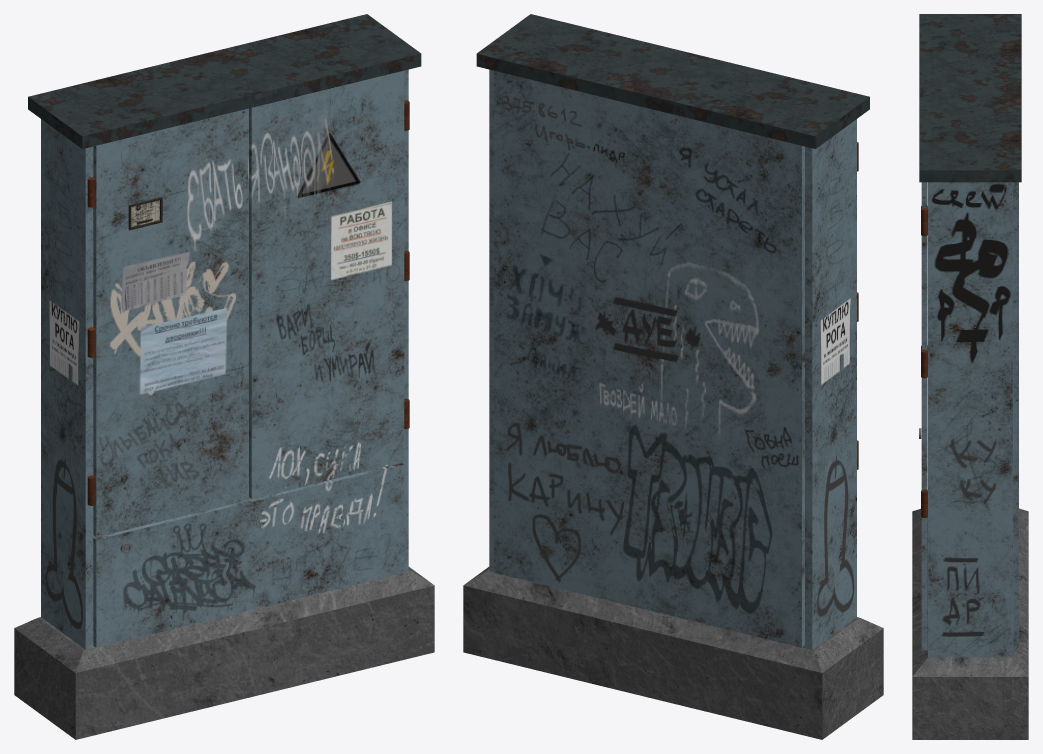
3 renders of one model, left to right at view 1: azimuth 30°, elevation 25°; view 2: azimuth 150°, elevation 25°; view 3: azimuth 270°, elevation 25°, orthographic. The views are drawn at different scales.
Visible parts, largest first — view 1: Object_2, Object_2.001; view 2: Object_2; view 3: Object_2, Object_2.001.
Part boxes in pixels (<box>): Object_2: <box>14,14,434,739</box>; Object_2.001: <box>249,70,404,498</box>; Object_2: <box>463,14,883,739</box>; Object_2: <box>912,14,1028,739</box>; Object_2.001: <box>921,182,927,545</box>.
Bounding box in the file's own units: 1.32 × 2.1 × 0.3902.
Materials: 1 (1 with a texture image).
